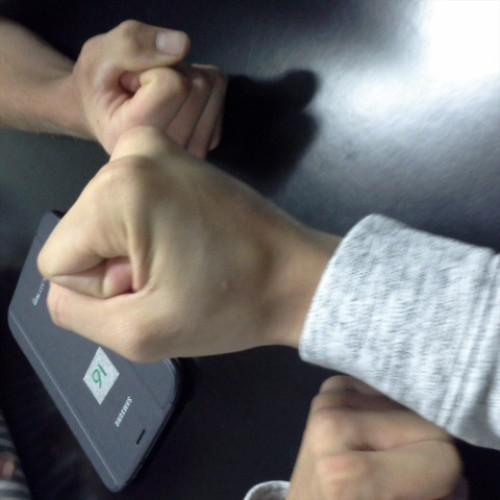rock: (29, 122, 288, 374), (67, 12, 233, 165)
